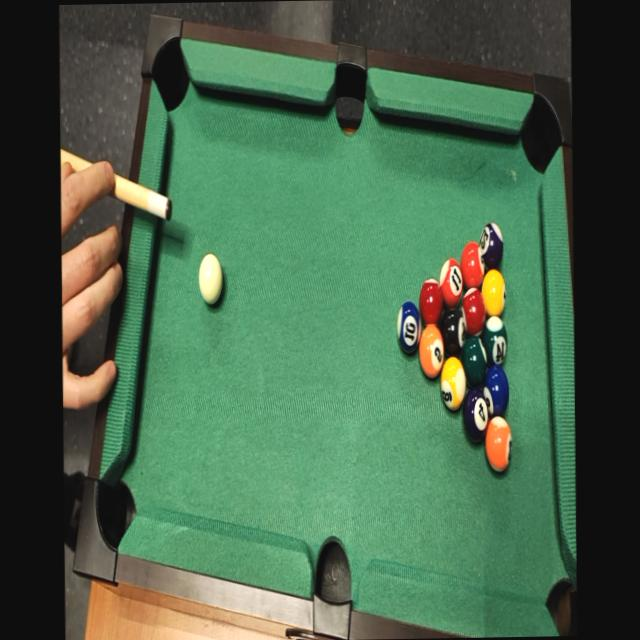cue ball: (197, 248, 224, 312)
other: (460, 380, 492, 448), (482, 415, 514, 478), (438, 352, 469, 414), (460, 326, 489, 390), (417, 323, 446, 381), (481, 362, 511, 417), (475, 220, 506, 273), (395, 299, 425, 353), (439, 302, 468, 356), (458, 237, 488, 289), (458, 281, 487, 333), (480, 316, 510, 366), (438, 252, 466, 304), (481, 266, 508, 318), (417, 274, 444, 326)
